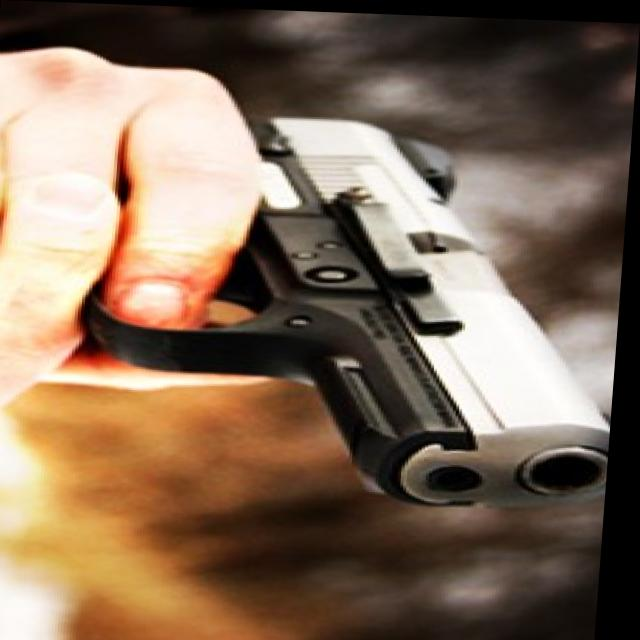handgun: (91, 103, 634, 505)
